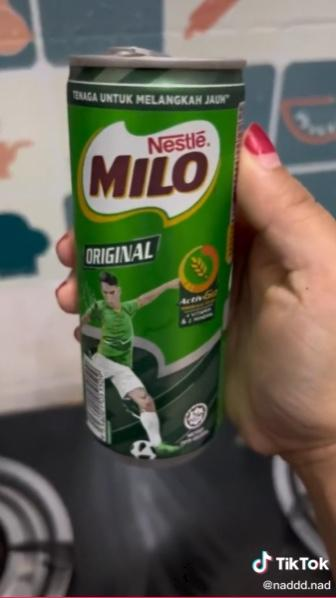metal: (61, 43, 243, 469)
